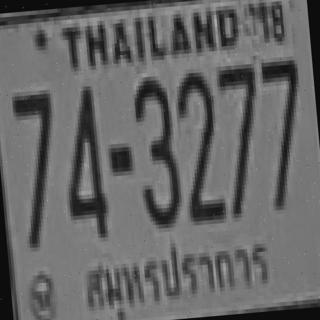N02: (172, 70, 221, 220)
N03: (130, 75, 181, 226)
N04: (56, 82, 108, 236)
N07: (9, 88, 60, 246), (215, 60, 264, 214), (258, 56, 307, 206), (215, 60, 261, 182)
P57: (70, 225, 280, 320)
